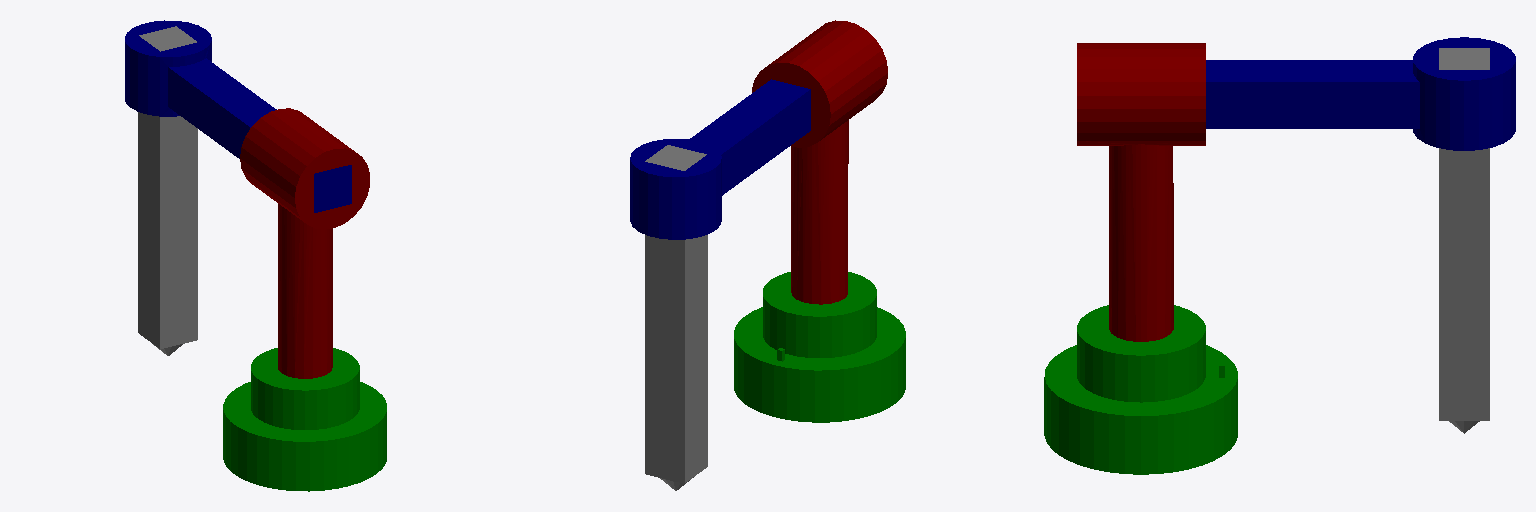
The robot description file, URDF, robot "robot_arm":
<?xml version="1.0"?>
<robot
  name="robot_arm">
  <link
    name="base_link">
    <inertial>
      <origin
        xyz="5.50969069638998E-07 1.37742267409562E-05 0.0363476019686249"
        rpy="0 0 0" />
      <mass
        value="1.13436494794592" />
      <inertia
        ixx="0.00208417903844748"
        ixy="-3.90538911082871E-08"
        ixz="-1.16577487695743E-08"
        iyy="0.00208320425332542"
        iyz="-2.91443719240235E-07"
        izz="0.00287156996840952" />
    </inertial>
    <visual>
      <origin
        xyz="0 0 0"
        rpy="0 0 0" />
      <geometry>
        <mesh
          filename="package://robot_arm/meshes/base_link.STL" />
      </geometry>
      <material
        name="">
        <color
          rgba="0 0.5 0 1" />
      </material>
    </visual>
    <collision>
      <origin
        xyz="0 0 0"
        rpy="0 0 0" />
      <geometry>
        <mesh
          filename="package://robot_arm/meshes/base_link.STL" />
      </geometry>
    </collision>
  </link>
  <link
    name="L1">
    <inertial>
      <origin
        xyz="4.61675338406349E-08 0.0657917472626601 -3.66674622268229E-10"
        rpy="0 0 0" />
      <mass
        value="0.696206223955188" />
      <inertia
        ixx="0.00449971764527753"
        ixy="-3.20988326471392E-10"
        ixz="4.20153552370807E-10"
        iyy="0.000569124549780412"
        iyz="1.53325398447017E-11"
        izz="0.00439476858096434" />
    </inertial>
    <visual>
      <origin
        xyz="0 0 0"
        rpy="0 0 0" />
      <geometry>
        <mesh
          filename="package://robot_arm/meshes/L1.STL" />
      </geometry>
      <material
        name="">
        <color
          rgba="0.5 0 0 1" />
      </material>
    </visual>
    <collision>
      <origin
        xyz="0 0 0"
        rpy="0 0 0" />
      <geometry>
        <mesh
          filename="package://robot_arm/meshes/L1.STL" />
      </geometry>
    </collision>
  </link>
  <joint
    name="L1_joint"
    type="revolute">
    <origin
      xyz="0 0 0.29"
      rpy="-1.5707963267949 0 0" />
    <parent
      link="base_link" />
    <child
      link="L1" />
    <axis
      xyz="0 -1 0" />
    <limit upper="0.5" lower="-0.5"   effort="2"  velocity="2" />
  </joint>
  <link
    name="L2">
    <inertial>
      <origin
        xyz="5.3348004279598E-18 -0.113437054744059 0"
        rpy="0 0 0" />
      <mass
        value="0.624369760185228" />
      <inertia
        ixx="0.00656095166129945"
        ixy="4.24514276125927E-20"
        ixz="1.85725801780714E-20"
        iyy="0.00028149037564222"
        iyz="3.3285276416069E-21"
        izz="0.00660741246931074" />
    </inertial>
    <visual>
      <origin
        xyz="0 0 0"
        rpy="0 0 0" />
      <geometry>
        <mesh
          filename="package://robot_arm/meshes/L2.STL" />
      </geometry>
      <material
        name="">
        <color
          rgba="0 0 0.5 1" />
      </material>
    </visual>
    <collision>
      <origin
        xyz="0 0 0"
        rpy="0 0 0" />
      <geometry>
        <mesh
          filename="package://robot_arm/meshes/L2.STL" />
      </geometry>
    </collision>
  </link>
  <joint
    name="L2_joint"
    type="prismatic">
    <origin
      xyz="0 0 0.25"
      rpy="1.5707963267949 0 0" />
    <parent
      link="L1" />
    <child
      link="L2" />
    <axis
      xyz="0 1 0" />
    <limit upper="0.5" lower="-.5"   effort="2"  velocity="2" />
  </joint>
  <link
    name="L3">
    <inertial>
      <origin
        xyz="-1.3549853977479E-19 0 0.167341145426056"
        rpy="0 0 0" />
      <mass
        value="0.488377580409572" />
      <inertia
        ixx="0.00386244709883215"
        ixy="5.68686671130206E-21"
        ixz="3.756451192381E-20"
        iyy="0.00386244709883215"
        iyz="-5.10693581649567E-20"
        izz="0.000129005309649149" />
    </inertial>
    <visual>
      <origin
        xyz="0 0 0"
        rpy="0 0 0" />
      <geometry>
        <mesh
          filename="package://robot_arm/meshes/L3.STL" />
      </geometry>
      <material
        name="">
        <color
          rgba="0.5 0.5 0.5 1" />
      </material>
    </visual>
    <collision>
      <origin
        xyz="0 0 0"
        rpy="0 0 0" />
      <geometry>
        <mesh
          filename="package://robot_arm/meshes/L3.STL" />
      </geometry>
    </collision>
  </link>
  <joint
    name="L3_joint"
    type="prismatic">
    <origin
      xyz="0 0 -0.29"
      rpy="0 0 0" />
    <parent
      link="L2" />
    <child
      link="L3" />
    <axis
      xyz="0 0 1" />
    <limit upper="0.5" lower="-.5"   effort="2"  velocity="2" />
  </joint>
</robot>

--- Render facts (derived) ---
Views: 3 orthographic renders of the robot side by side, from view 1: azimuth 30°, elevation 25°; view 2: azimuth 150°, elevation 25°; view 3: azimuth 270°, elevation 25°.
Model robot_arm with 4 links and 3 joints (1 revolute, 2 prismatic), rooted at base_link, posed every joint at zero.
Links seen in each view (by area): view 1: base_link, L1, L3, L2; view 2: base_link, L1, L3, L2; view 3: L1, base_link, L2, L3.
Link boxes in pixels (x1,y1,x2,y2): base_link: (223,348,386,491); L1: (240,108,369,378); L3: (138,26,197,355); L2: (125,20,351,212); base_link: (734,272,905,422); L1: (752,20,887,304); L3: (645,145,707,490); L2: (630,79,810,239); L1: (1077,43,1205,341); base_link: (1044,305,1237,474); L2: (1206,37,1515,150); L3: (1439,48,1489,433).
Size in the robot's own frame: 0.1497 by 0.3645 by 0.3299 metres.
4 mesh visuals loaded from 4 distinct referenced files (4 binary STL).